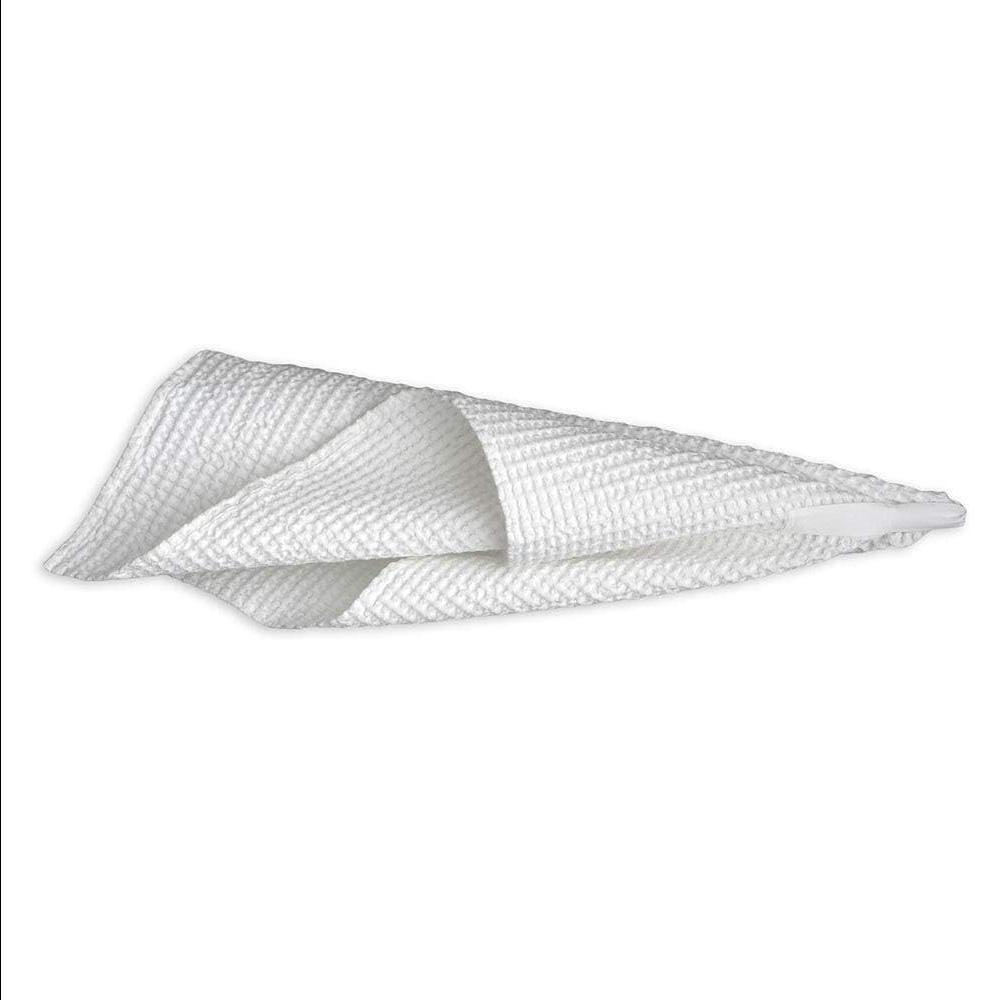towel: (75, 332, 1000, 715)
